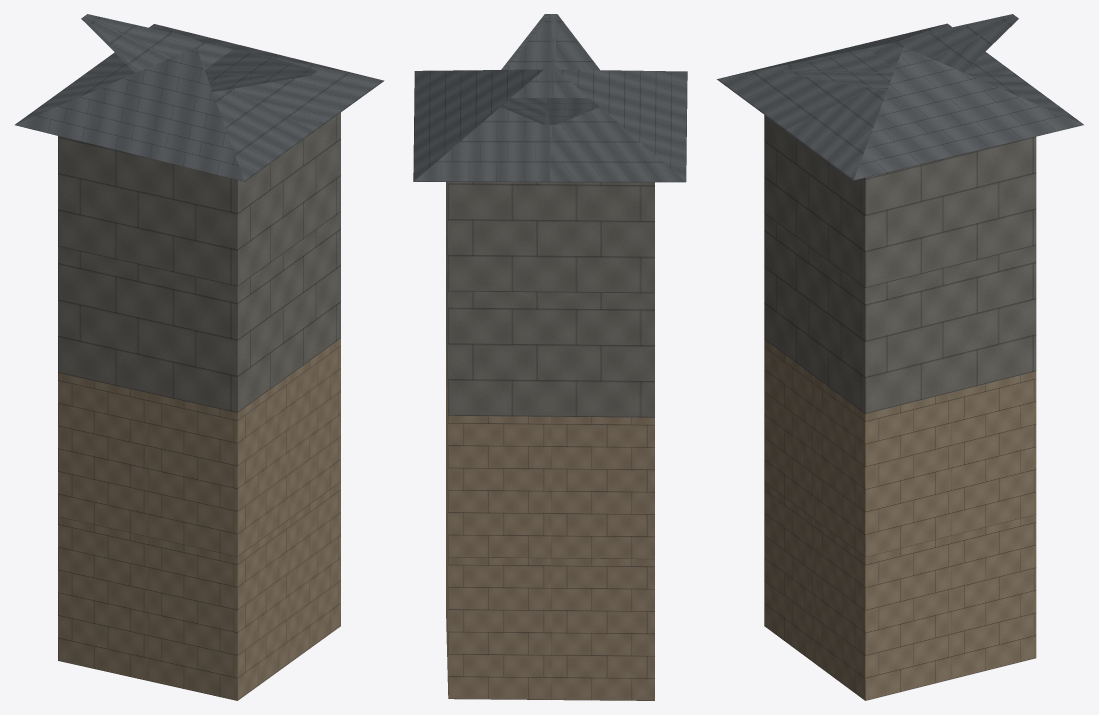
Rendered from bld_c19_29_376.gltf.
The picture shows the model from 3 angles, left to right: view 1: azimuth 30°, elevation 25°; view 2: azimuth 150°, elevation 25°; view 3: azimuth 270°, elevation 25°; orthographic projection.
Parts seen in each view (by area): view 1: bld_c19_29_376; view 2: bld_c19_29_376; view 3: bld_c19_29_376.
Part boxes in pixels (x1=…): bld_c19_29_376: x1=15, y1=14, x2=384, y2=700; bld_c19_29_376: x1=413, y1=14, x2=687, y2=700; bld_c19_29_376: x1=717, y1=14, x2=1083, y2=700.
Bounding box in the file's own units: 5.82 × 10.3 × 5.76.
Materials: 3 (3 with a texture image).
